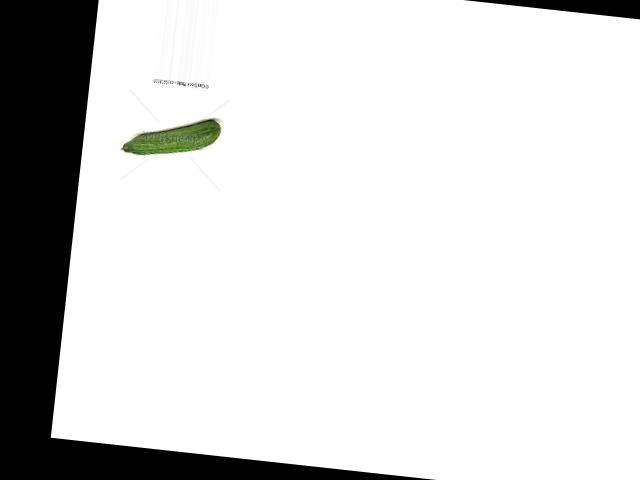cucumber: (120, 110, 220, 162)
